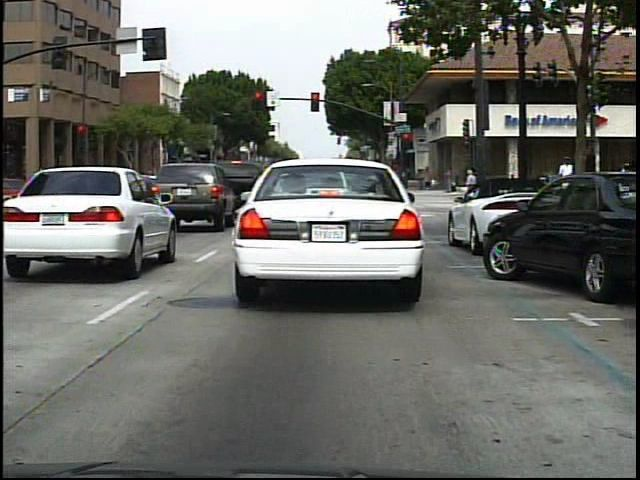person: (555, 152, 579, 215), (615, 156, 636, 209), (462, 163, 484, 211), (421, 163, 438, 194), (441, 164, 455, 196), (35, 164, 50, 190)
